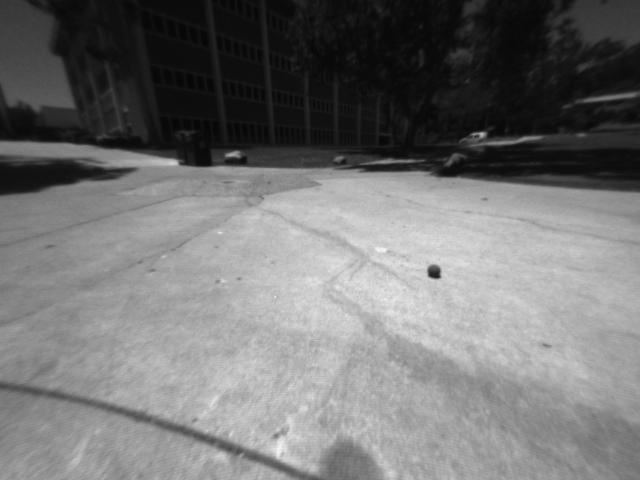dogtoy: (420, 256, 450, 283)
